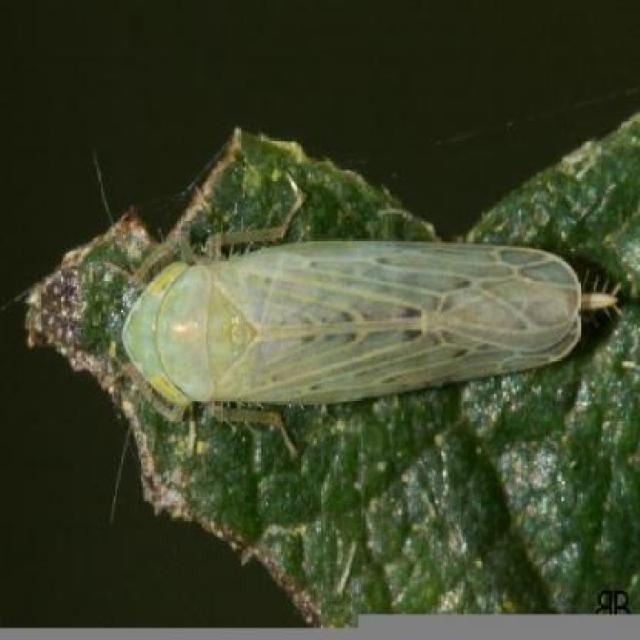green-leafhopper: (120, 238, 618, 453)
